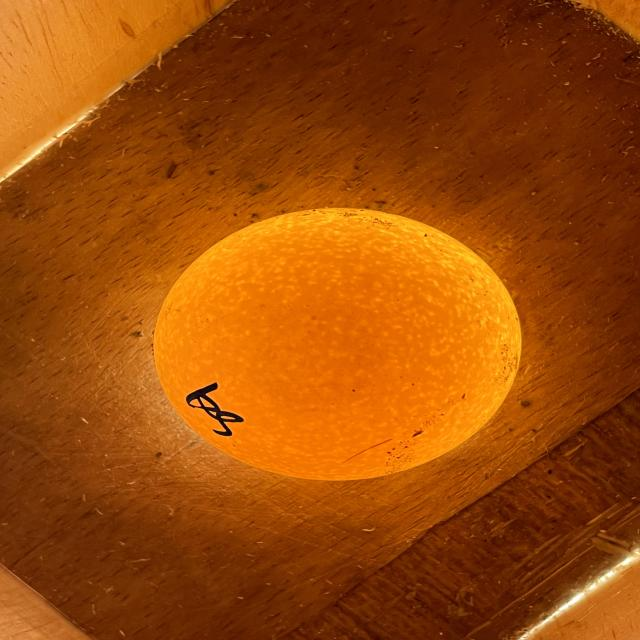infertile: (153, 209, 522, 480)
